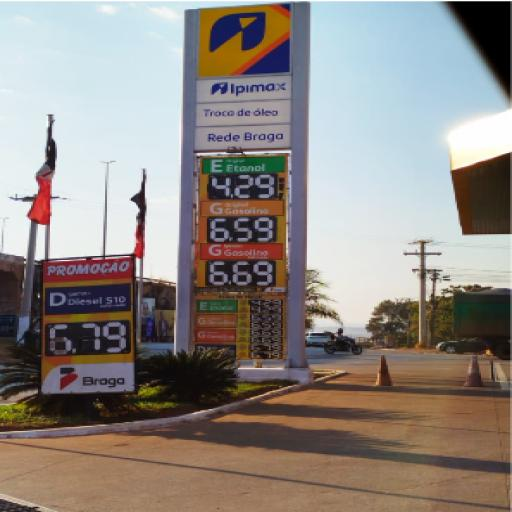ETANOL: (205, 159, 282, 172)
GASOLINA AD: (205, 244, 283, 260)
GASOLINA C: (206, 202, 283, 215)
placa: (197, 158, 284, 292)
preco: (208, 218, 277, 242), (210, 175, 278, 198), (208, 262, 276, 284)
